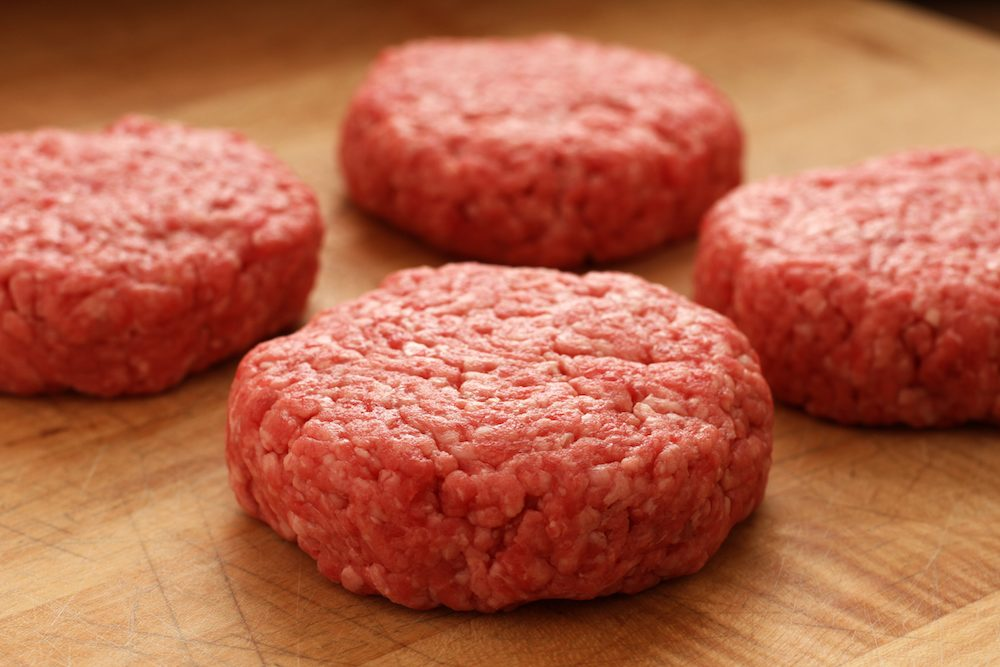ground_beef: (238, 260, 774, 591), (672, 132, 1000, 442), (1, 122, 340, 405), (349, 39, 741, 254)
